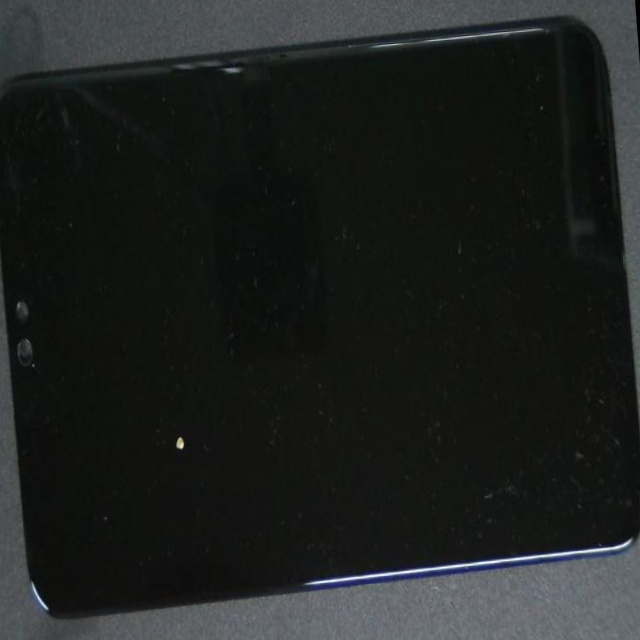stain: (38, 138, 277, 640)
